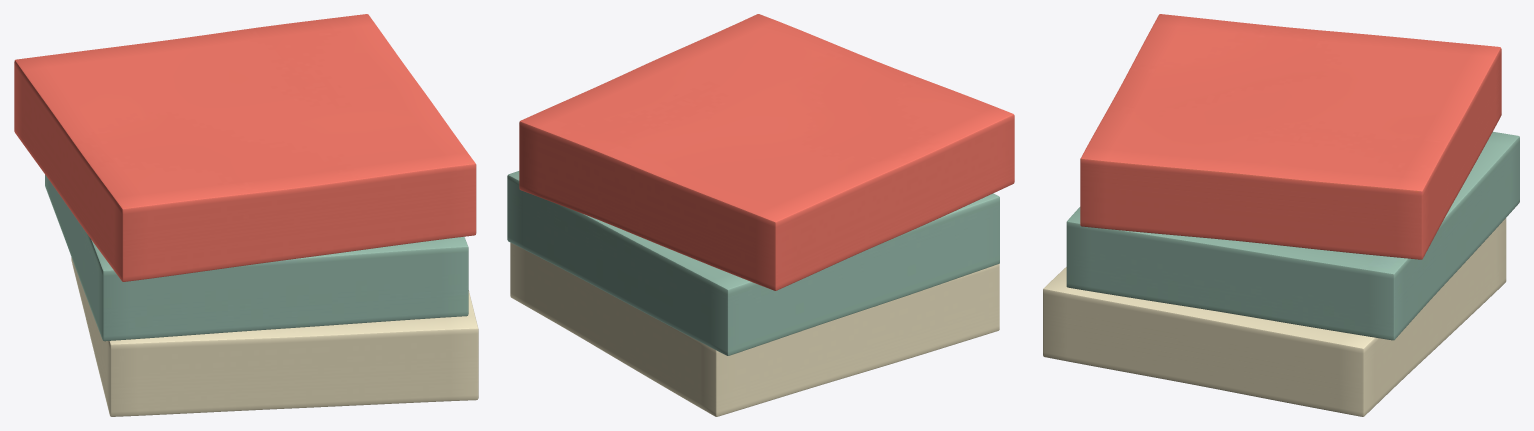
Rendered from stash.glb.
The picture shows the model from 3 angles, left to right: view 1: azimuth 30°, elevation 25°; view 2: azimuth 150°, elevation 25°; view 3: azimuth 270°, elevation 25°; orthographic projection. The views are drawn at different scales.
Parts seen in each view (by area): view 1: Pad_Top, Pad_Bottom, Pad_Middle; view 2: Pad_Top, Pad_Middle, Pad_Bottom; view 3: Pad_Top, Pad_Middle, Pad_Bottom.
Part boxes in pixels (x1=…): Pad_Top: x1=14, y1=14, x2=476, y2=281; Pad_Bottom: x1=71, y1=257, x2=478, y2=416; Pad_Middle: x1=45, y1=175, x2=468, y2=341; Pad_Top: x1=519, y1=14, x2=1014, y2=290; Pad_Middle: x1=507, y1=171, x2=999, y2=355; Pad_Bottom: x1=510, y1=242, x2=999, y2=416; Pad_Top: x1=1080, y1=14, x2=1501, y2=259; Pad_Middle: x1=1066, y1=131, x2=1519, y2=340; Pad_Bottom: x1=1043, y1=218, x2=1506, y2=416.
Size of the model in its own units: 0.101 by 0.05 by 0.103.
3 materials, 3 textured.
